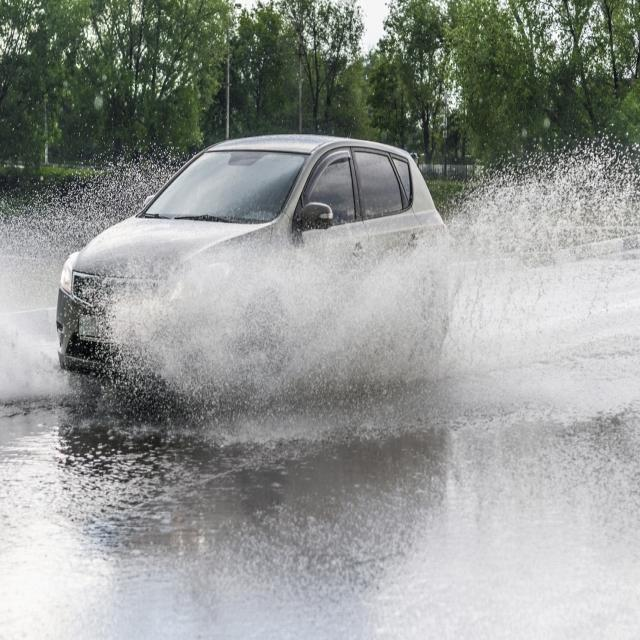car: (59, 136, 449, 382)
